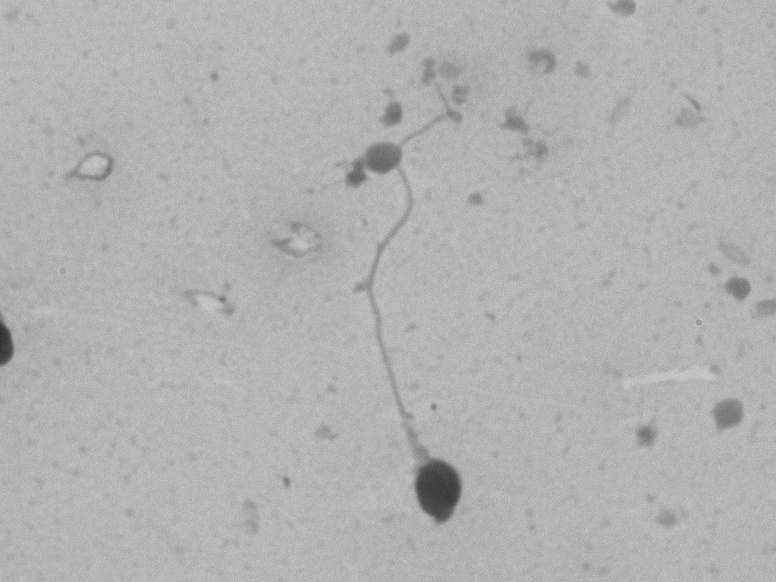Abnormal: (355, 72, 479, 534)
